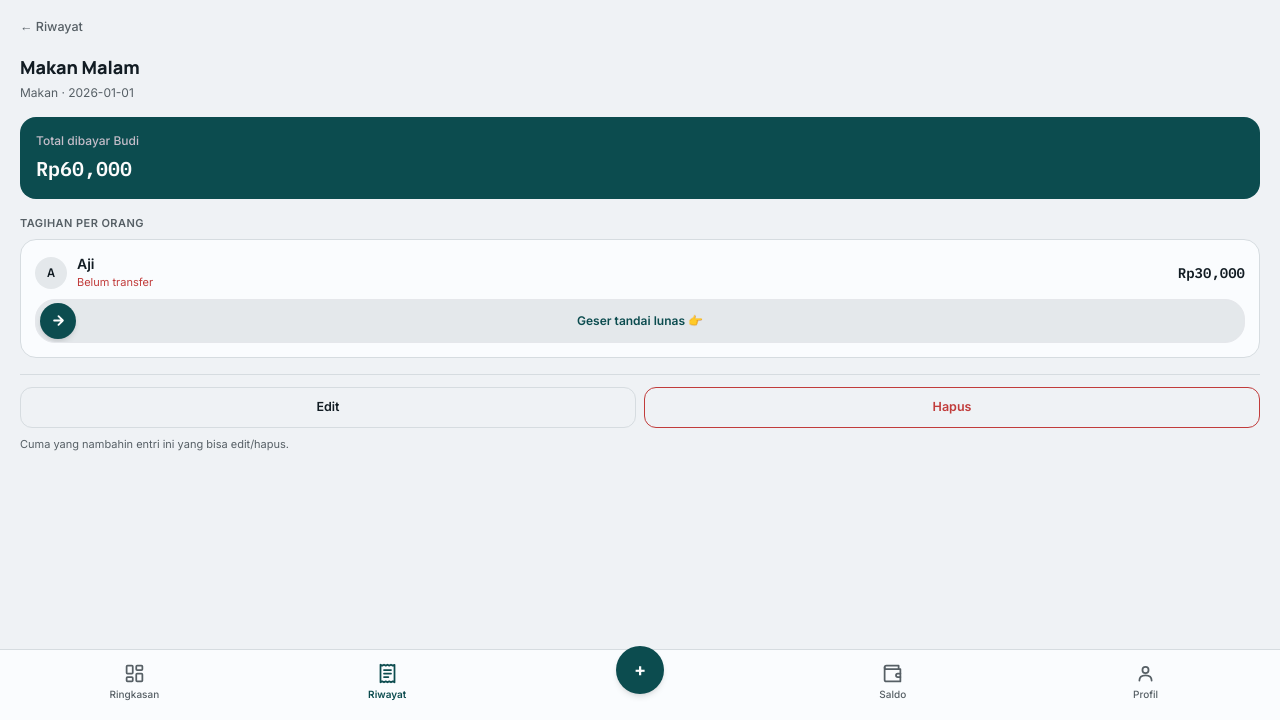
SubTripDetailScreen — edit/delete authorization › shows a confirmation step before deleting, and Batal cancels it
Click the button "Hapus": (952, 407) [644, 387, 1260, 428]
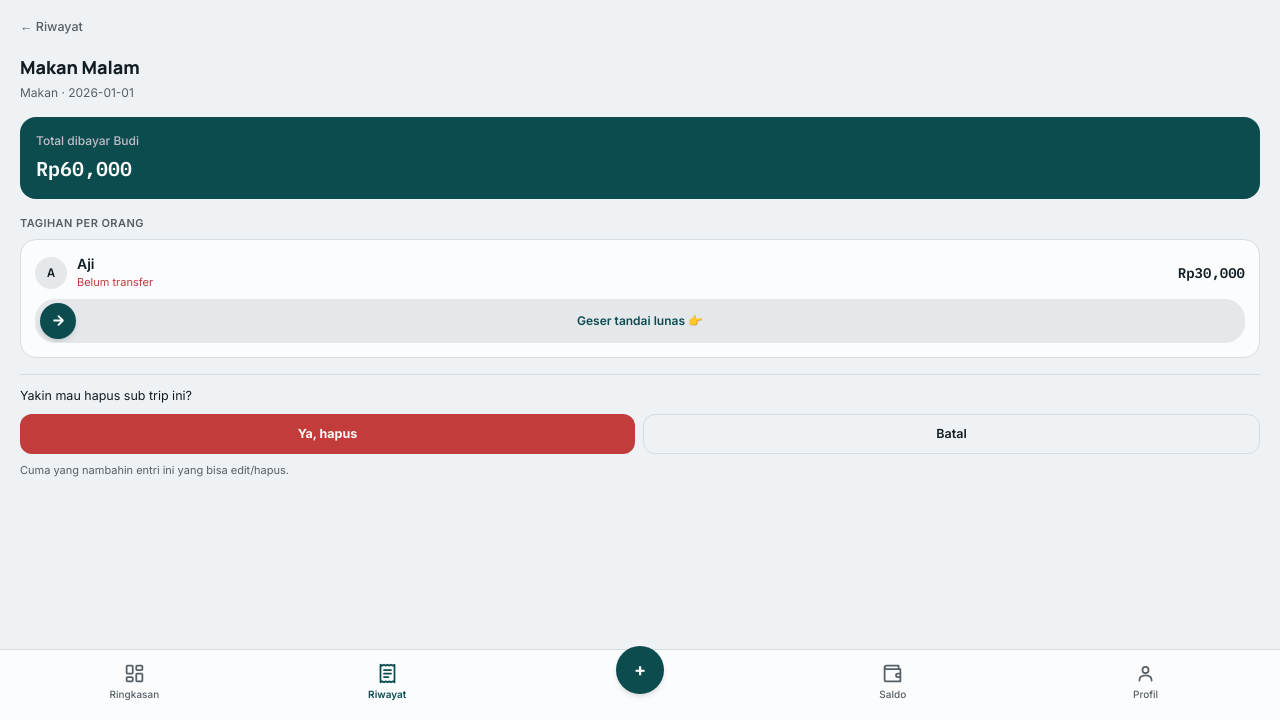
Result: the text "Yakin mau hapus sub trip ini?" is shown at [20, 388, 192, 403]
Click the button "Batal": (952, 434) [643, 414, 1260, 454]
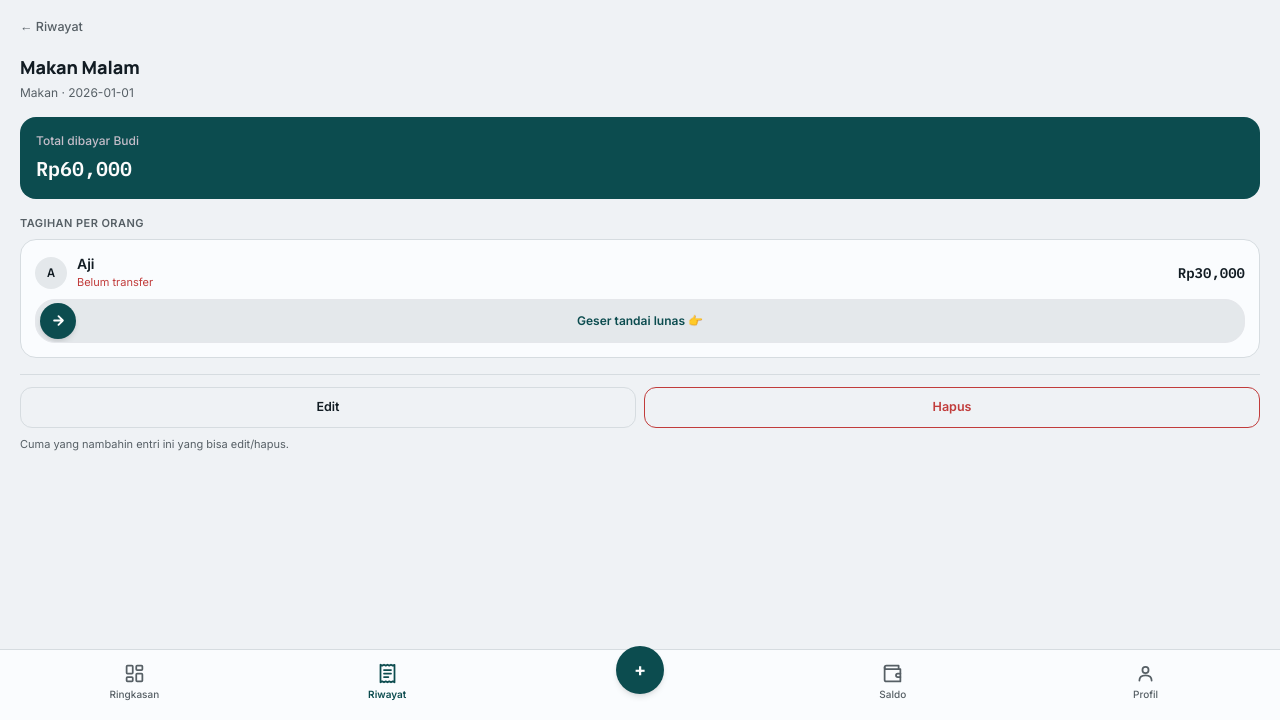
Result: the text "Yakin mau hapus sub trip ini?" is gone
